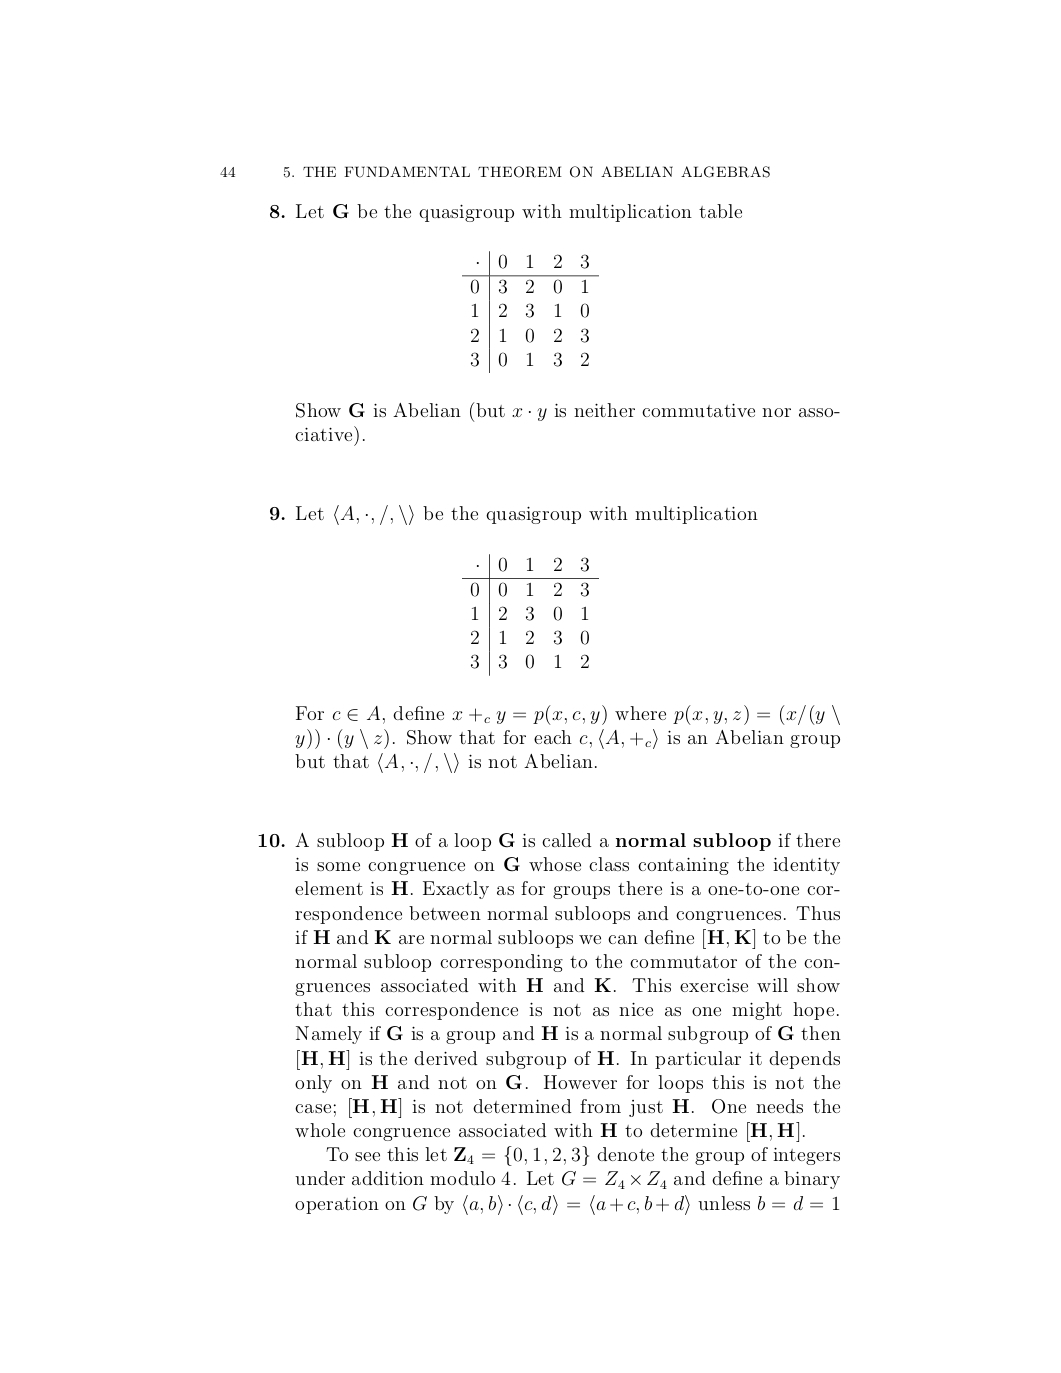Table: (463, 250, 598, 373), (463, 553, 598, 676)
